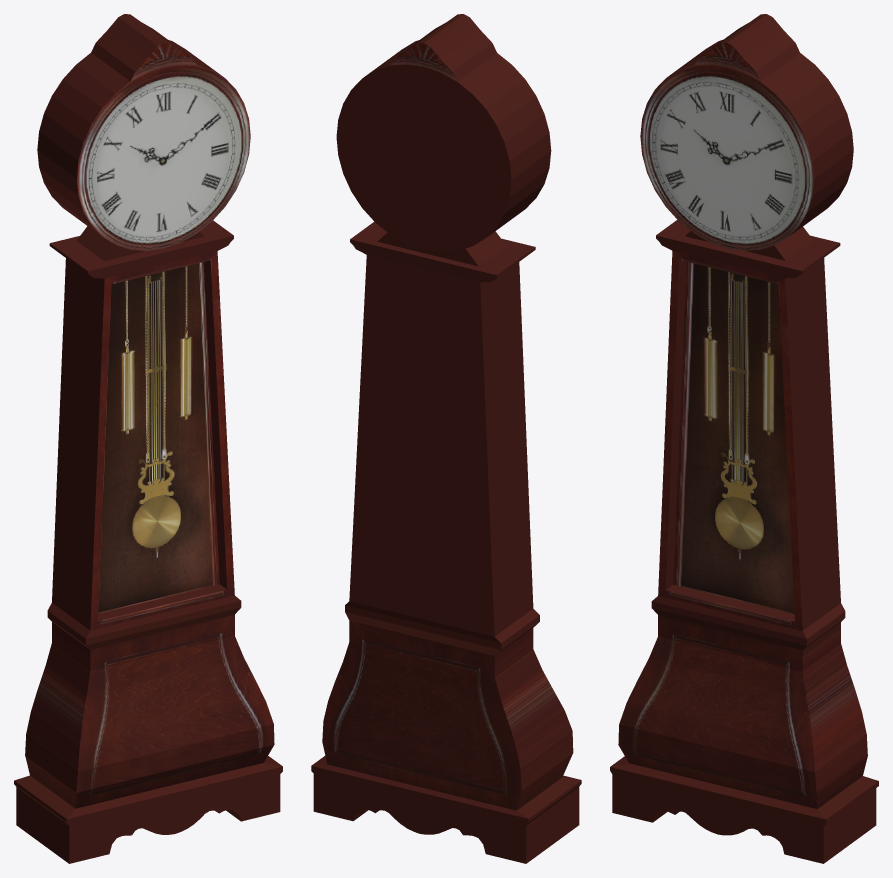
The model's file is GrandfatherClock.fbx.
3 views of the same model, side by side, from view 1: azimuth 30°, elevation 25°; view 2: azimuth 150°, elevation 25°; view 3: azimuth 330°, elevation 25° (orthographic).
Parts seen in each view (by area): view 1: Grandfather_Clock; view 2: Grandfather_Clock; view 3: Grandfather_Clock.
Boxes of the visible parts, x1,y1,x2,y2 form: Grandfather_Clock: (14, 14, 282, 863); Grandfather_Clock: (311, 14, 581, 863); Grandfather_Clock: (610, 14, 878, 863).
Bounding box in the file's own units: 1.15 × 0.4949 × 4.
